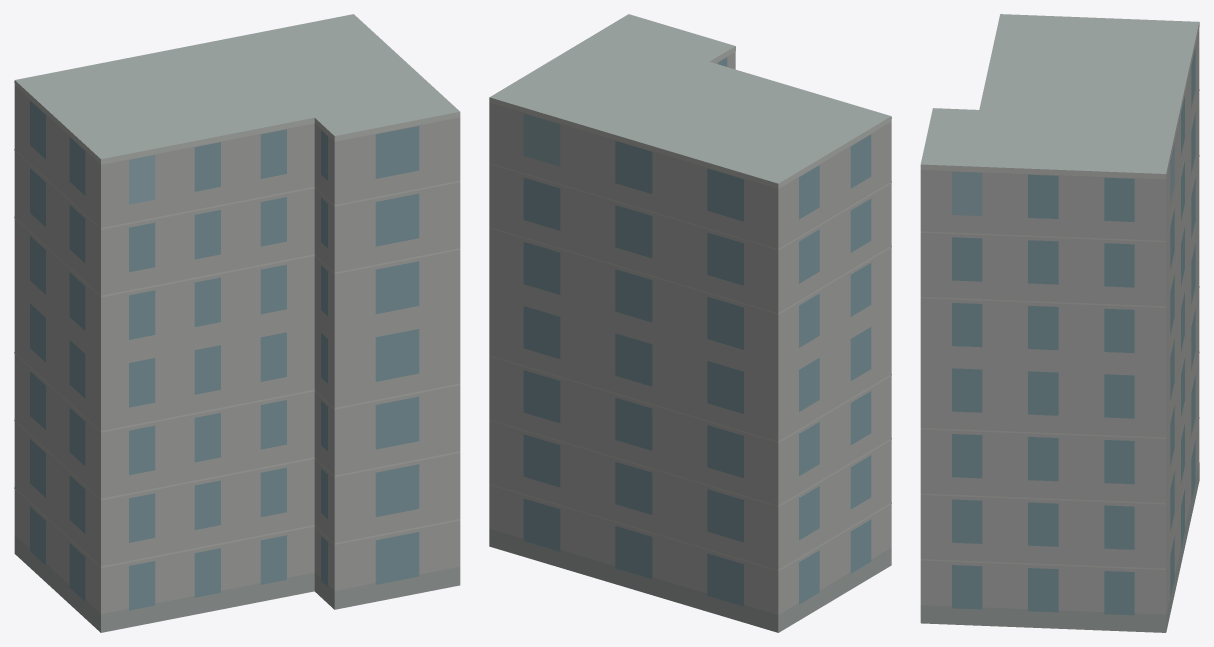
Rendered from survey-upis-32804057.glb.
The picture shows the model from 3 angles, left to right: view 1: azimuth 30°, elevation 25°; view 2: azimuth 150°, elevation 25°; view 3: azimuth 270°, elevation 25°; orthographic projection. The views are drawn at different scales.
Parts seen in each view (by area): view 1: survey-upis-32804057.tmp; view 2: survey-upis-32804057.tmp; view 3: survey-upis-32804057.tmp.
Part boxes in pixels (left/top/right/bottom): survey-upis-32804057.tmp: left=14, top=14, right=460, bottom=632; survey-upis-32804057.tmp: left=489, top=14, right=891, bottom=632; survey-upis-32804057.tmp: left=920, top=14, right=1199, bottom=632.
Bounding box in the file's own units: 15.36 × 20.5 × 11.31.
